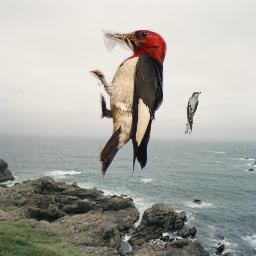Cuckoo: (185, 91, 201, 134)
Woodpecker: (89, 29, 167, 178)
